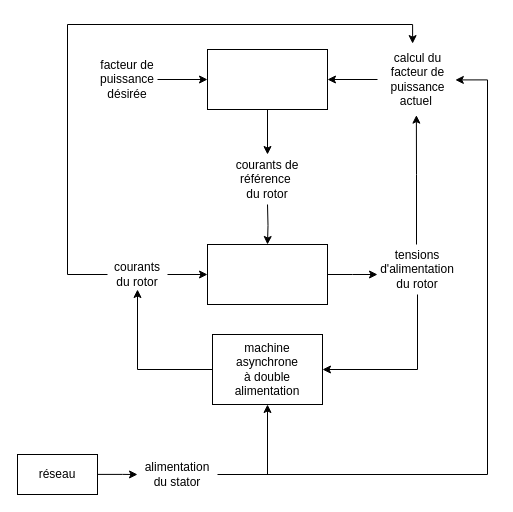
This 513x512 diagram has some shape labels left out. The box of each missing label's shape, as (x1, y1, x2, y2) in pixels:
contrôleur de puissance: (206, 48, 328, 110)
contrôleur PI: (206, 244, 328, 304)
